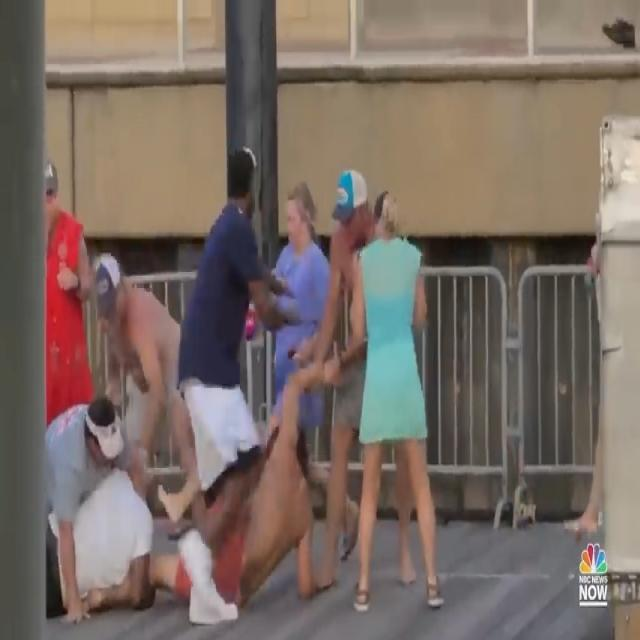fight: (40, 129, 446, 640)
